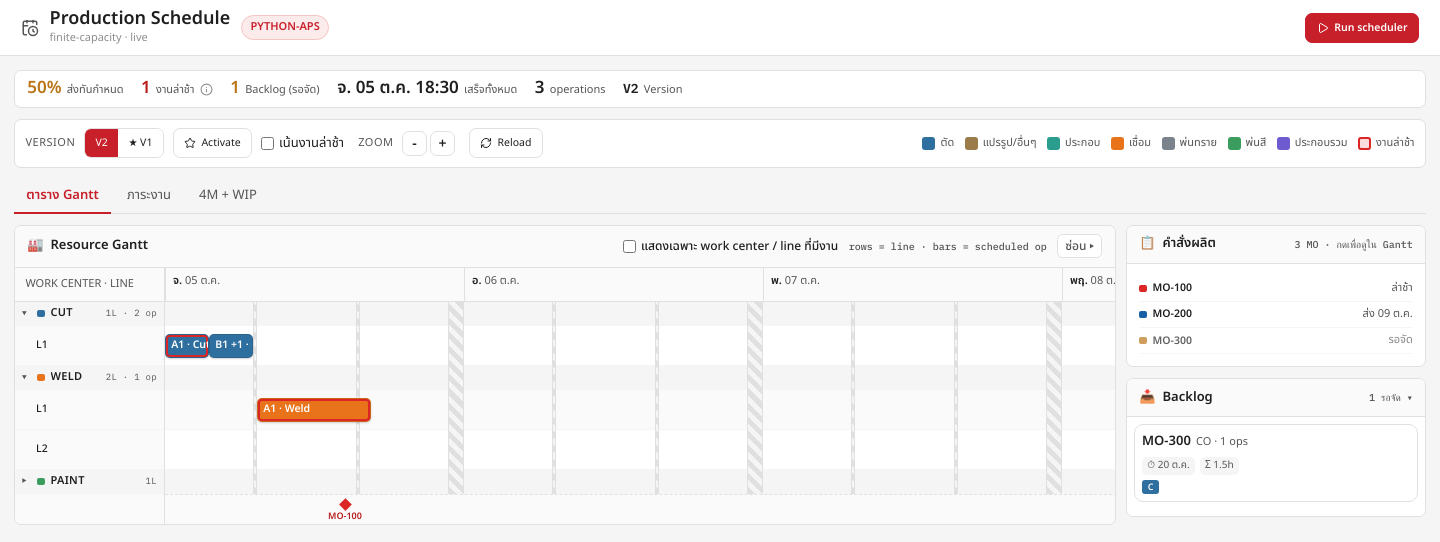
Test case: ProductionSchedule › "แสดงเฉพาะ work center / line ที่มีงาน" hides rows without ops
Expected: the text "PAINT" is shown, 50,473 -> 85,489
Click the checkbox labelled "แสดงเฉพาะ work center / line ที่มีงาน": click(629, 246) 623,240 -> 636,252
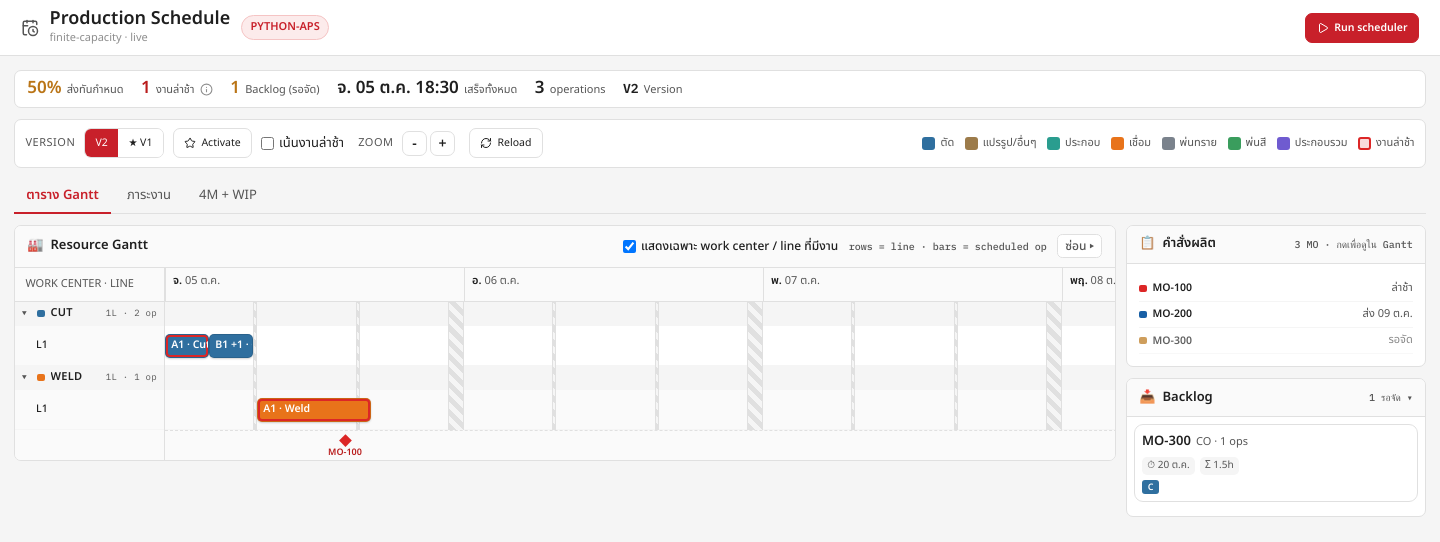
Expected: the button "▾ CUT 1L · 2 op" is shown, 15,302 -> 164,326
Expected: the button "PAINT" is gone
